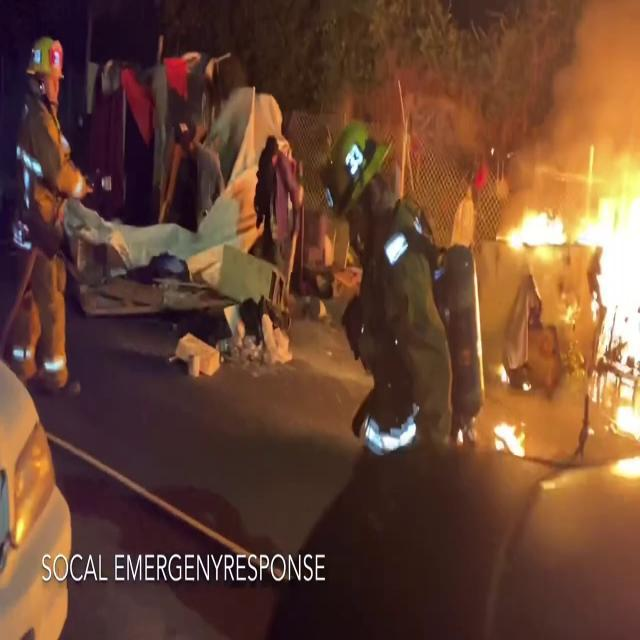Fire: (502, 119, 640, 456), (490, 408, 530, 462)
